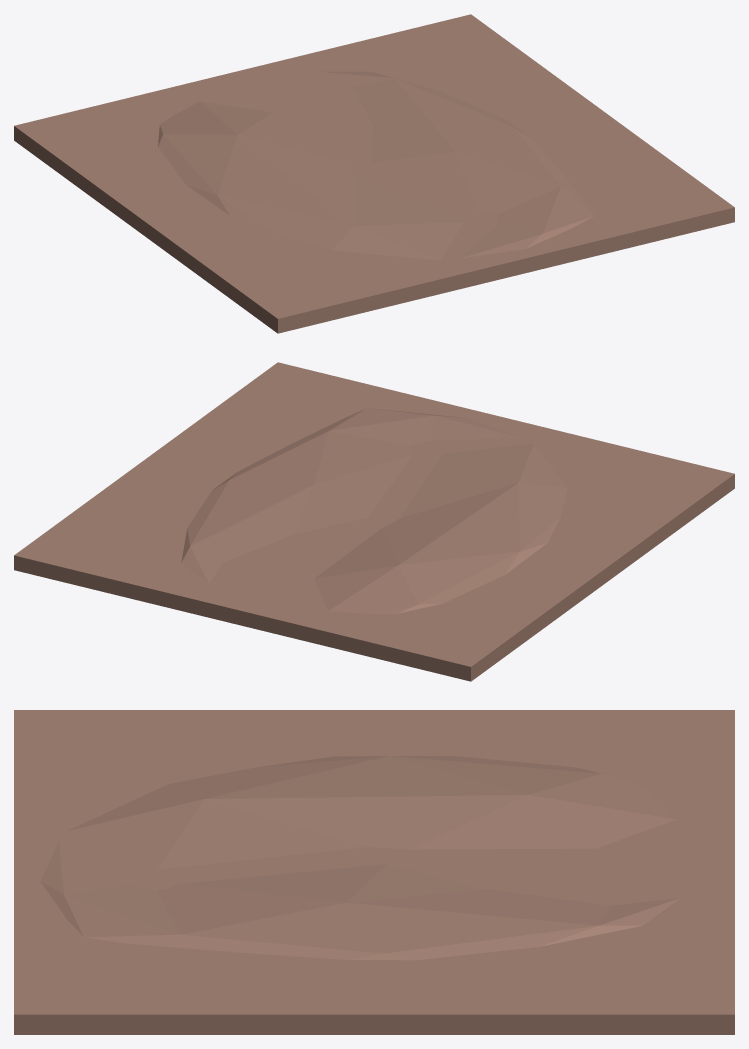
Rendered from SM_ground.fbx.
3 views of the same model, one above another, from view 1: azimuth 30°, elevation 25°; view 2: azimuth 150°, elevation 25°; view 3: azimuth 270°, elevation 25° (orthographic). The views are drawn at different scales.
Visible parts, largest first — view 1: Cube, Icosphere; view 2: Cube, Icosphere; view 3: Cube, Icosphere.
Boxes of the visible parts, x1,y1,x2,y2 form: Cube: [14, 14, 734, 333]; Icosphere: [158, 71, 594, 260]; Cube: [14, 362, 734, 681]; Icosphere: [181, 408, 567, 614]; Cube: [14, 710, 734, 1034]; Icosphere: [40, 756, 680, 960].
Size of the model in its own units: 2102 by 110 by 2102.
